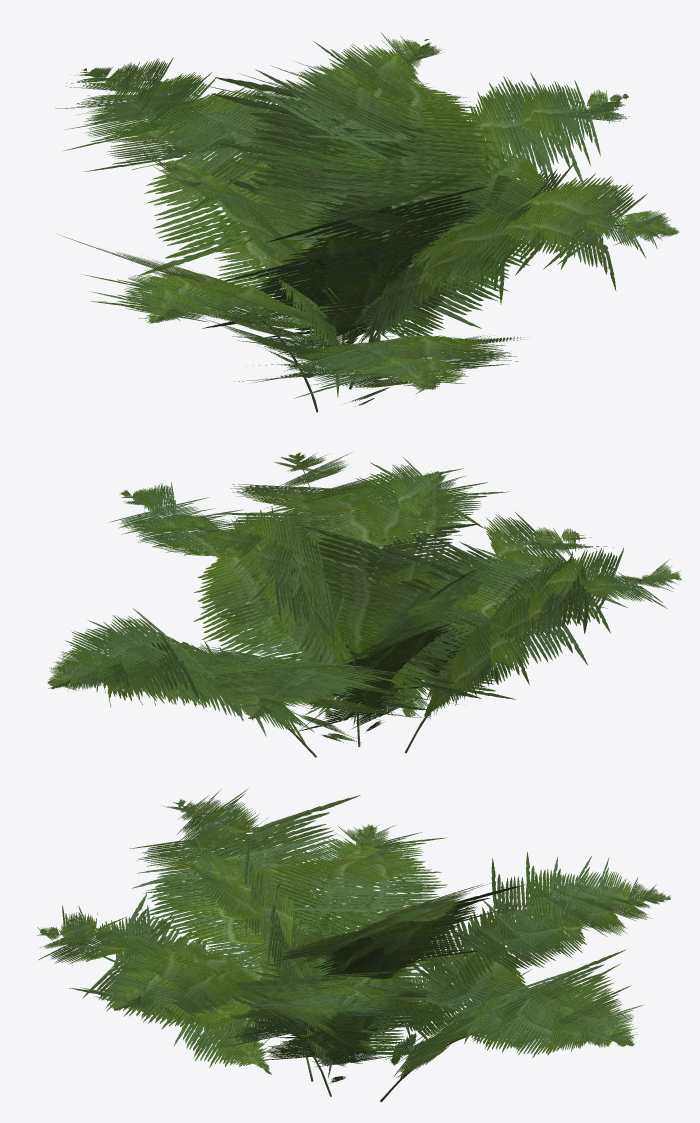
Rendered from fern_02_lod1.glb.
The picture shows the model from 3 angles, top to bottom: view 1: azimuth 30°, elevation 25°; view 2: azimuth 150°, elevation 25°; view 3: azimuth 270°, elevation 25°; orthographic projection. The views are drawn at different scales.
Visible parts, largest first — view 1: AE_15TH_FERN_02_LOD1; view 2: AE_15TH_FERN_02_LOD1; view 3: AE_15TH_FERN_02_LOD1.
Part boxes in pixels (left/top/right/bottom): AE_15TH_FERN_02_LOD1: left=55, top=32, right=679, bottom=412; AE_15TH_FERN_02_LOD1: left=47, top=452, right=681, bottom=757; AE_15TH_FERN_02_LOD1: left=37, top=788, right=670, bottom=1102.
Bounding box in the file's own units: 0.4875 × 0.2264 × 0.5499.
4 materials, 4 textured.
